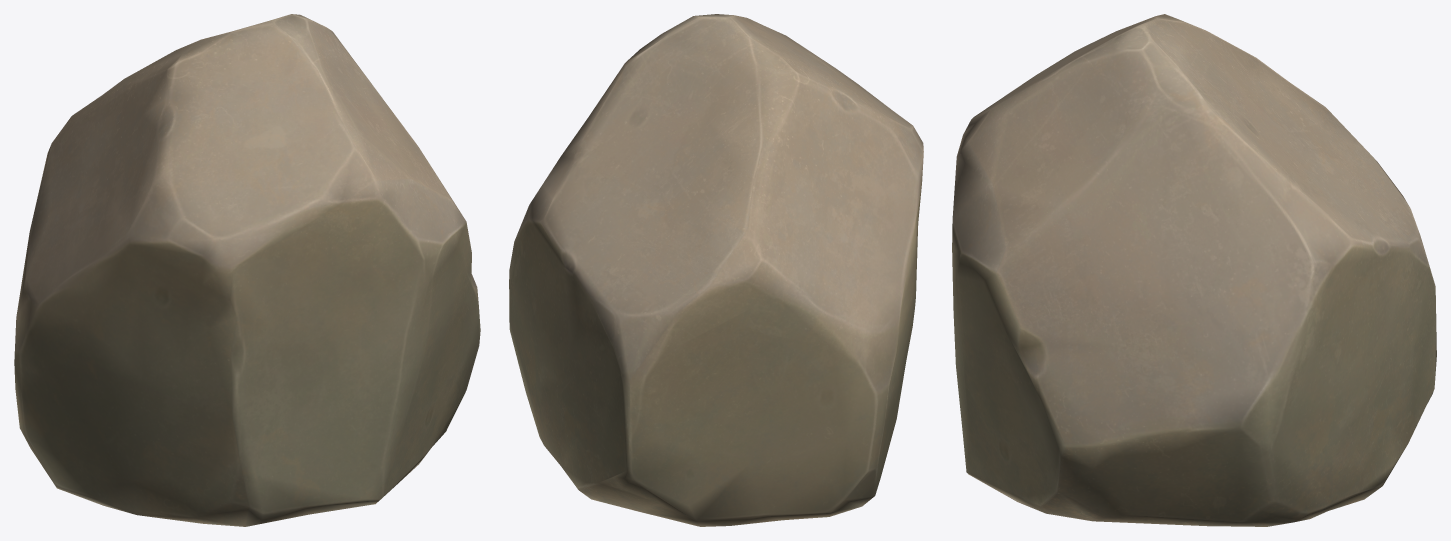
The model's file is SM_Rock_Small_3.fbx.
3 renders of one model, left to right at view 1: azimuth 30°, elevation 25°; view 2: azimuth 150°, elevation 25°; view 3: azimuth 270°, elevation 25°, orthographic. The views are drawn at different scales.
Visible parts, largest first — view 1: SM_Rock_Small_3_LOD0; view 2: SM_Rock_Small_3_LOD0; view 3: SM_Rock_Small_3_LOD0.
Boxes of the visible parts, x1,y1,x2,y2 form: SM_Rock_Small_3_LOD0: (14,14,480,526); SM_Rock_Small_3_LOD0: (509,14,923,526); SM_Rock_Small_3_LOD0: (952,14,1436,526).
Size of the model in its own units: 60.63 by 62.62 by 66.1.
Materials: 1 (1 with a texture image).
